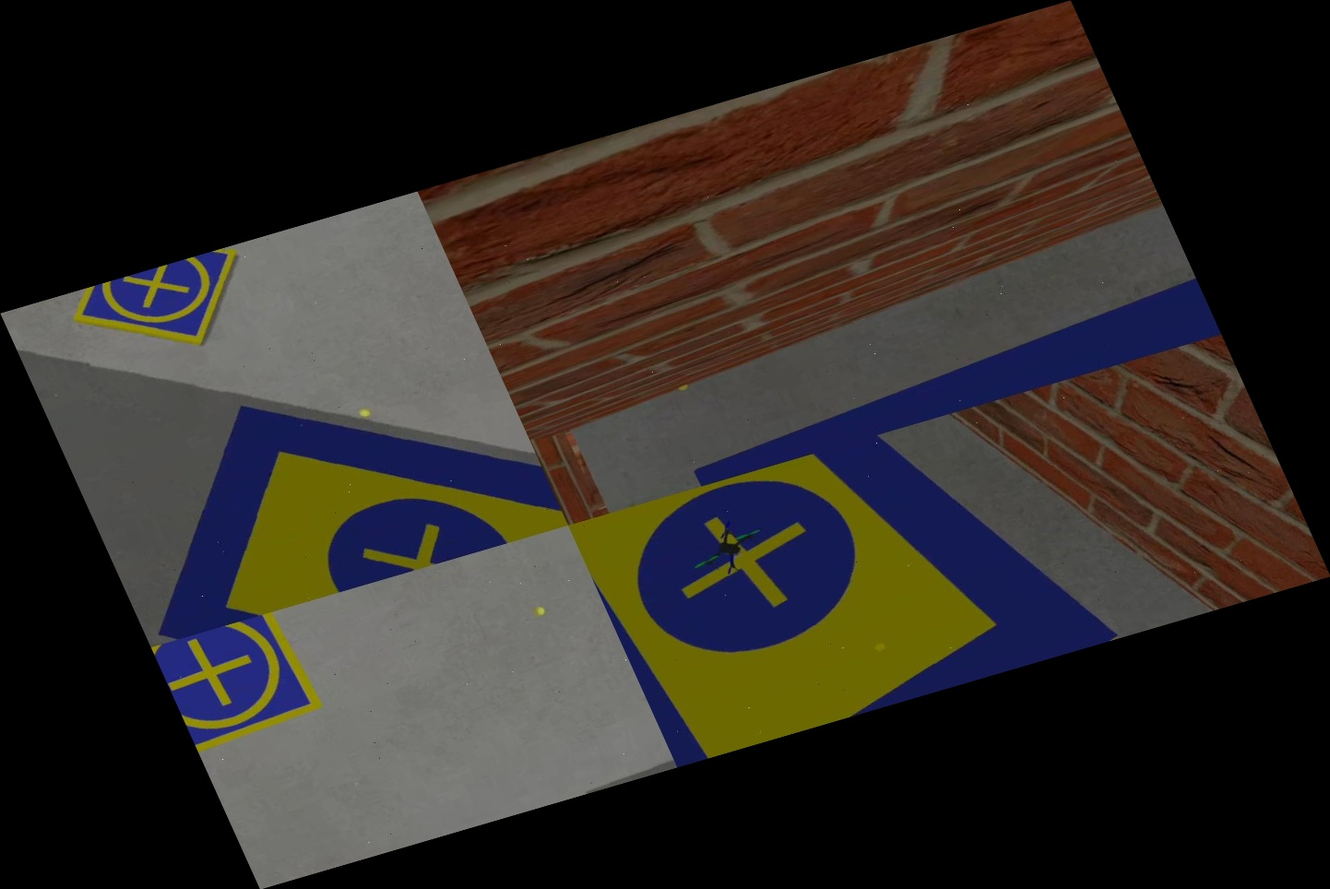large_base: (568, 394, 1127, 766), (58, 318, 568, 646), (669, 269, 1221, 487)
small_base: (61, 243, 275, 377), (151, 609, 331, 754)
